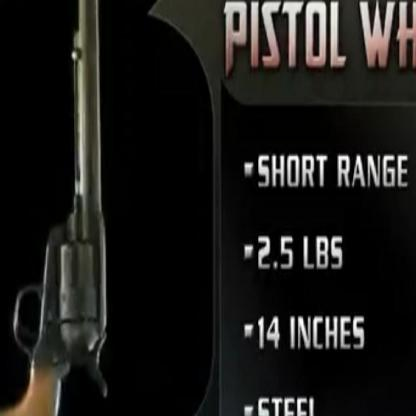gun: (0, 0, 121, 415)
